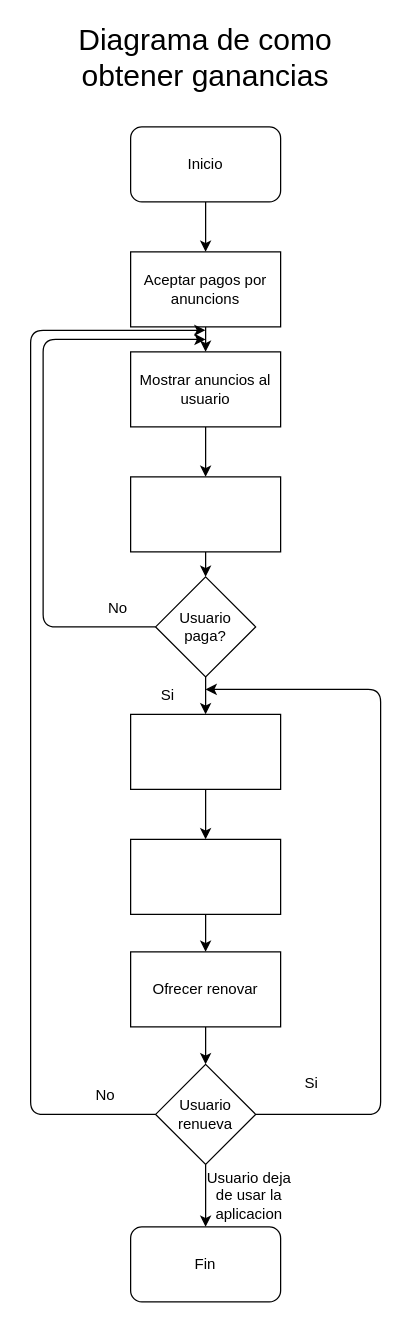
This 413x1324 diagram has some shape labels left out. Here are the shapes that lost their labels. From the top down, the centre of each, then its label:
At [205,514]: "Ofrecer suscripcion para quitar los anuncion".
At [205,751]: "No mostrar anuncios durante un mes".
At [205,876]: "Mes termina".
